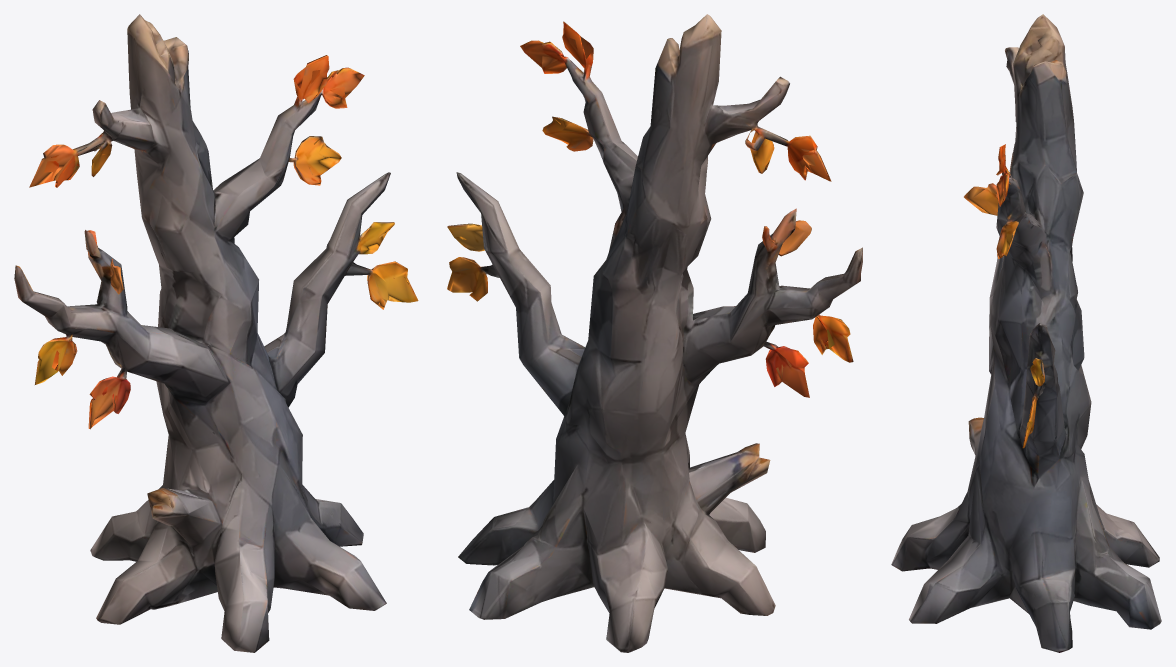
The model's file is tree_autumn_dead.glb.
The picture shows the model from 3 angles, left to right: view 1: azimuth 30°, elevation 25°; view 2: azimuth 150°, elevation 25°; view 3: azimuth 270°, elevation 25°; orthographic projection. The views are drawn at different scales.
Parts seen in each view (by area): view 1: BakeLow; view 2: BakeLow; view 3: BakeLow.
Boxes of the visible parts, x1,y1,x2,y2 form: BakeLow: [14, 14, 418, 652]; BakeLow: [447, 14, 862, 652]; BakeLow: [891, 14, 1161, 652].
Size of the model in its own units: 0.634 by 0.8762 by 0.3996.
1 material, 1 textured.
